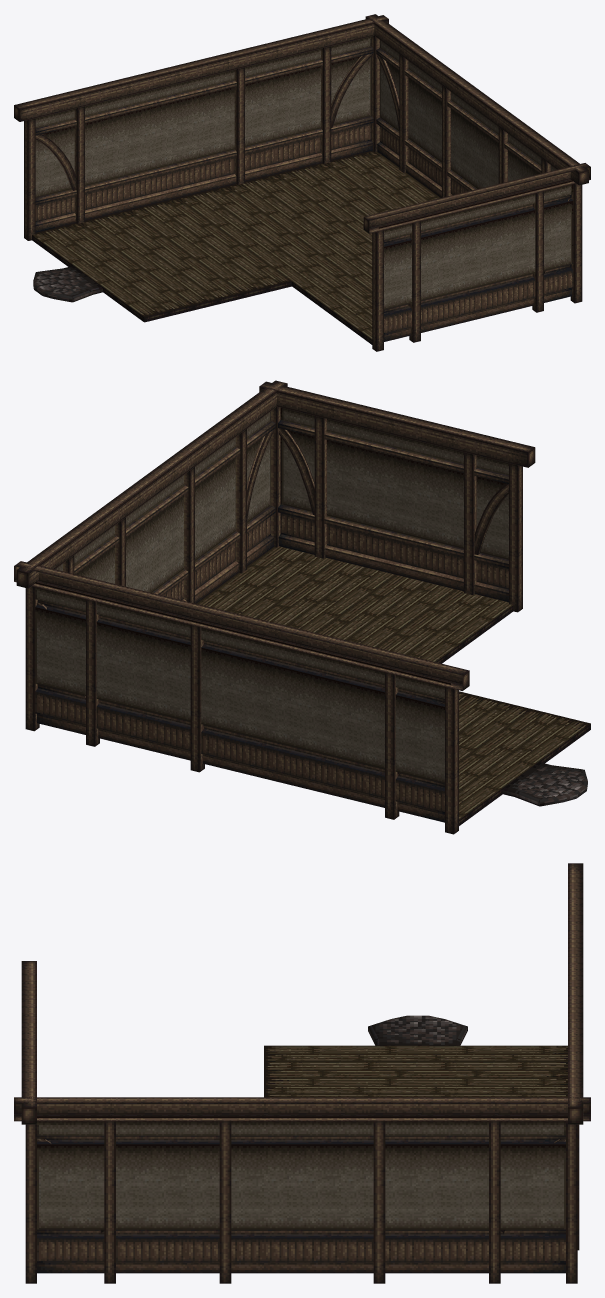
The model's file is EnvBdgMD_Mount_A_Indoor_House_F.FBX.
The picture shows the model from 3 angles, top to bottom: view 1: azimuth 30°, elevation 25°; view 2: azimuth 150°, elevation 25°; view 3: azimuth 270°, elevation 25°; orthographic projection. The views are drawn at different scales.
Visible parts, largest first — view 1: EnvBdgMD_Mount_A_Indoor_House_F; view 2: EnvBdgMD_Mount_A_Indoor_House_F; view 3: EnvBdgMD_Mount_A_Indoor_House_F.
Part boxes in pixels (left/top/right/bottom): EnvBdgMD_Mount_A_Indoor_House_F: left=14, top=14, right=590, bottom=351; EnvBdgMD_Mount_A_Indoor_House_F: left=14, top=380, right=590, bottom=834; EnvBdgMD_Mount_A_Indoor_House_F: left=14, top=863, right=590, bottom=1283.
Bounding box in the file's own units: 1650 × 520 × 1500.
Materials: 1 (1 with a texture image).
